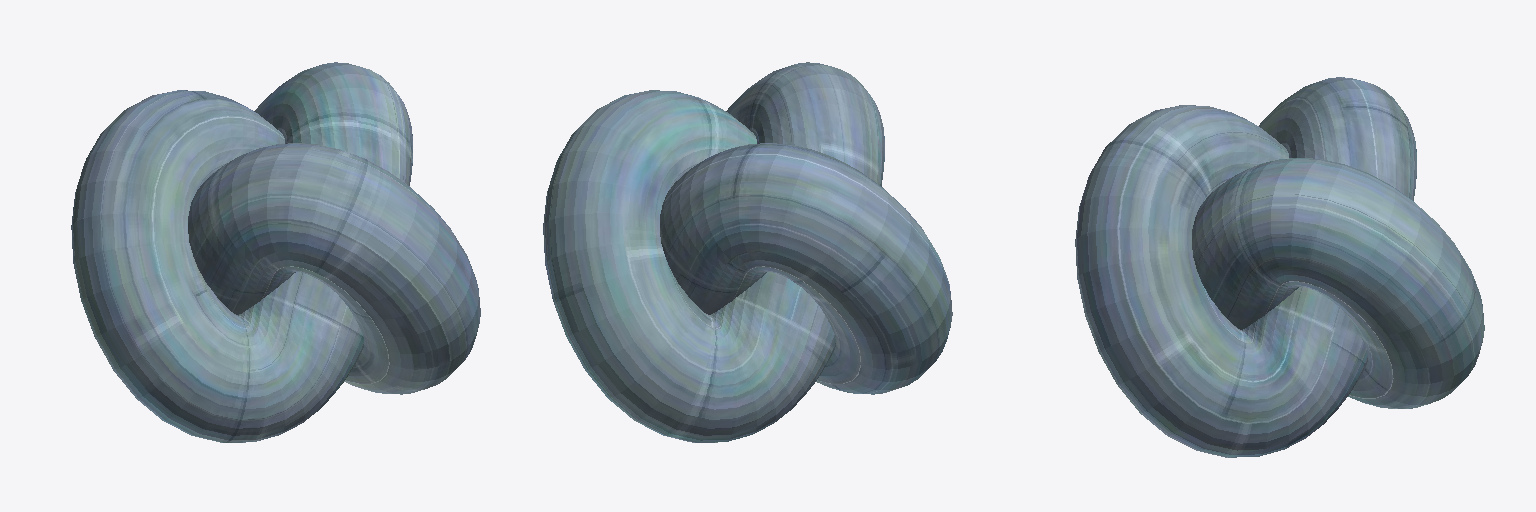
The picture shows the model from 3 angles: view 1: azimuth 30°, elevation 25°; view 2: azimuth 150°, elevation 25°; view 3: azimuth 270°, elevation 25°; orthographic projection.
Visible parts, largest first — view 1: Torus_Knot01; view 2: Torus_Knot01; view 3: Torus_Knot01.
Part boxes in pixels (bbox=[...]): Torus_Knot01: bbox=[71, 62, 480, 442]; Torus_Knot01: bbox=[543, 62, 952, 442]; Torus_Knot01: bbox=[1075, 77, 1484, 457].
Bounding box in the file's own units: 4.23 × 3.44 × 4.44.
1 materials, 1 textured.